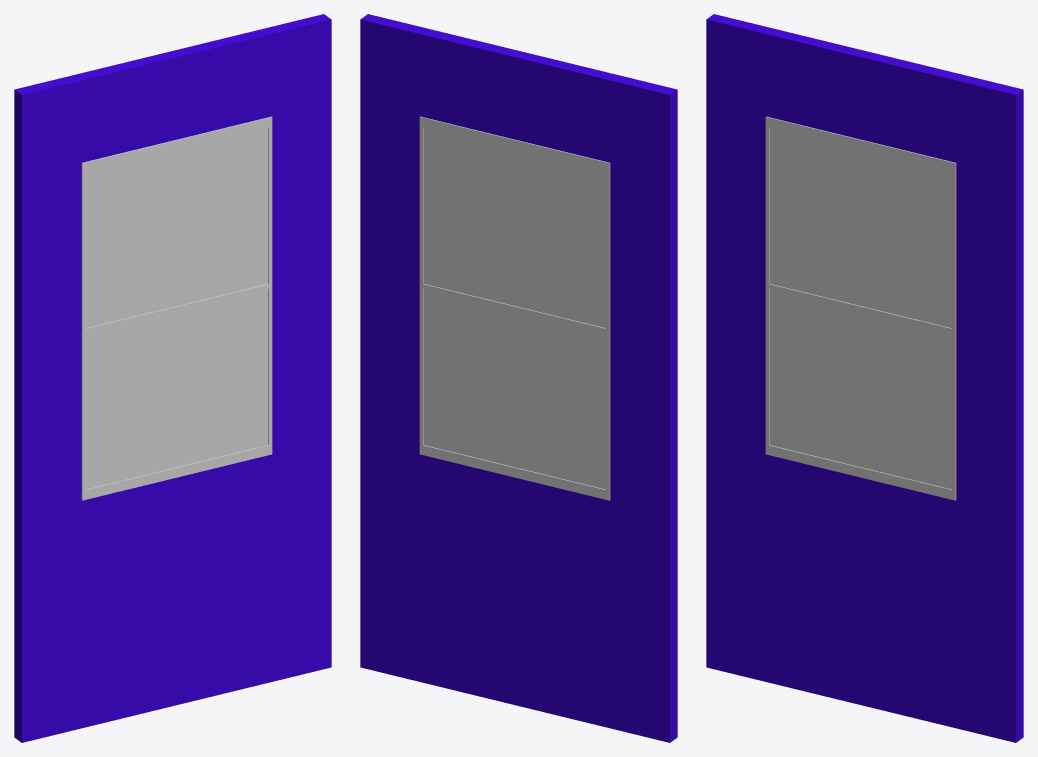
Rendered from Hallway_Wall_Window_1u.fbx.
3 views of the same model, side by side, from view 1: azimuth 30°, elevation 25°; view 2: azimuth 150°, elevation 25°; view 3: azimuth 330°, elevation 25° (orthographic).
Visible parts, largest first — view 1: Hallway_Wall_Window_1u, Window_1u_Glass, Hallway_Window.001; view 2: Hallway_Wall_Window_1u, Window_1u_Glass, Hallway_Window.001; view 3: Hallway_Wall_Window_1u, Window_1u_Glass, Hallway_Window.001.
Part boxes in pixels (x1,y1,x2,y2): Hallway_Wall_Window_1u: [14, 14, 331, 742]; Window_1u_Glass: [86, 128, 267, 489]; Hallway_Window.001: [81, 116, 272, 500]; Hallway_Wall_Window_1u: [360, 14, 677, 742]; Window_1u_Glass: [424, 128, 605, 489]; Hallway_Window.001: [419, 116, 610, 500]; Hallway_Wall_Window_1u: [706, 14, 1023, 742]; Window_1u_Glass: [770, 128, 951, 489]; Hallway_Window.001: [765, 116, 956, 500].
Bounding box in the file's own units: 1000 × 2000 × 47.93.
